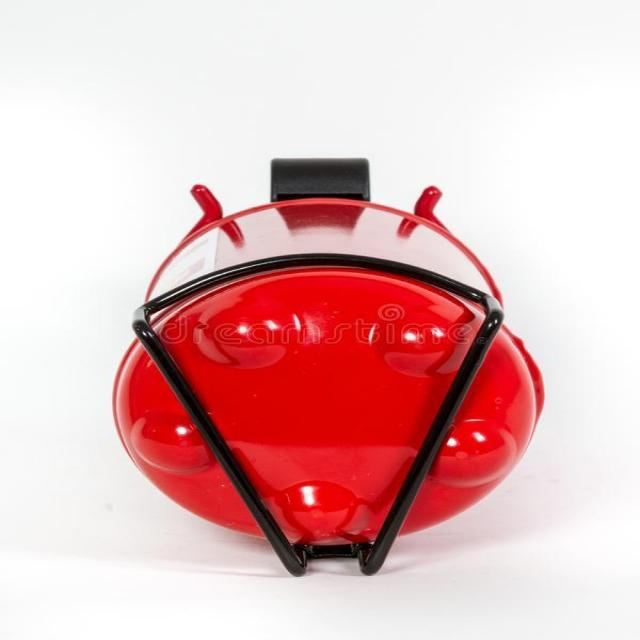fire_extinguisher: (104, 240, 548, 552)
